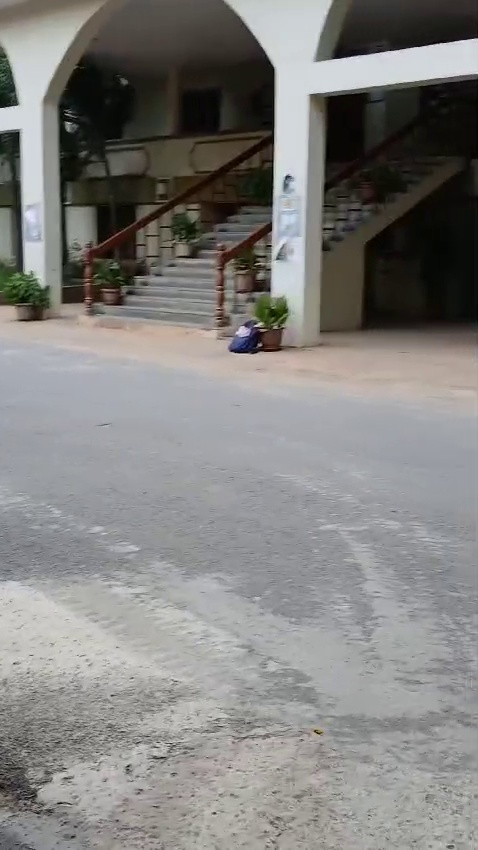bag: (223, 322, 256, 363)
